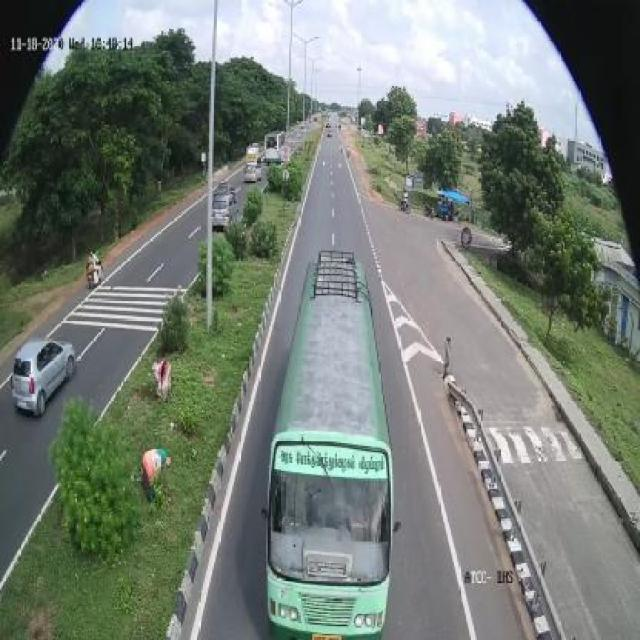car: (14, 339, 61, 423), (197, 186, 252, 228)
